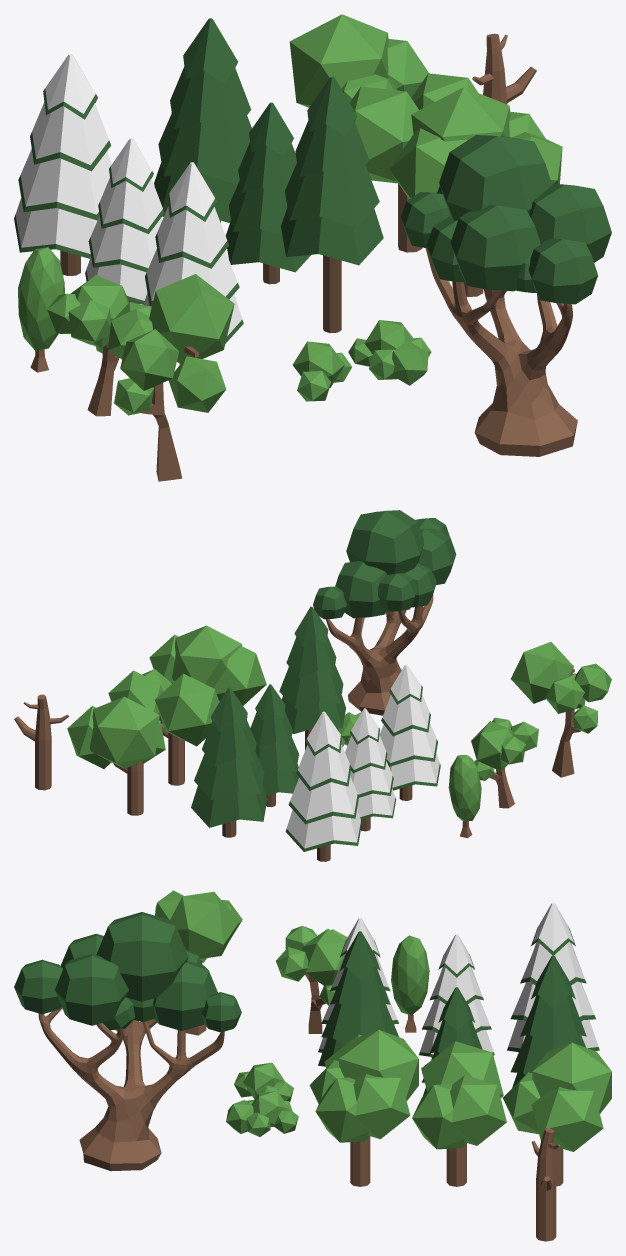
File: Arboles1 (2).fbx
3 renders of one model, top to bottom at view 1: azimuth 30°, elevation 25°; view 2: azimuth 150°, elevation 25°; view 3: azimuth 270°, elevation 25°, orthographic. The views are drawn at different scales.
Parts seen in each view (by area): view 1: tree2, Circle, Circle.010, tree2.001, Circle.011, Circle.008, Circle.003, Circle.007, Circle.009, Circle.001, Circle.006, Icosphere.007 (+13 smaller); view 2: tree2, Circle.011, Circle.010, Circle.007, Circle.006, Circle, Circle.003, Circle.001, tree2.001, Circle.009, Circle.008, Icosphere.007 (+10 smaller); view 3: tree2, tree2.001, Circle.003, Circle.006, Circle.007, Circle, Circle.011, Circle.010, Circle.009, Icosphere.007, Icosphere.009, Icosphere.011 (+9 smaller).
Part boxes in pixels (left/top/right/bottom): tree2: left=401, top=135, right=611, bottom=304; Circle: left=281, top=76, right=383, bottom=332; Circle.010: left=14, top=54, right=111, bottom=275; tree2.001: left=425, top=242, right=577, bottom=456; Circle.011: left=154, top=18, right=251, bottom=222; Circle.008: left=225, top=102, right=311, bottom=284; Circle.003: left=389, top=87, right=562, bottom=296; Circle.007: left=289, top=14, right=428, bottom=107; Circle.009: left=85, top=138, right=164, bottom=304; Circle.001: left=143, top=162, right=243, bottom=343; Circle.006: left=349, top=73, right=478, bottom=252; Icosphere.007: left=149, top=274, right=234, bottom=363; tree2: left=313, top=510, right=456, bottom=619; Circle.011: left=191, top=687, right=267, bottom=837; Circle.010: left=285, top=711, right=361, bottom=861; Circle.007: left=67, top=696, right=165, bottom=815; Circle.006: left=108, top=669, right=219, bottom=785; Circle: left=279, top=606, right=345, bottom=750; Circle.003: left=149, top=625, right=266, bottom=705; Circle.001: left=379, top=664, right=440, bottom=800; tree2.001: left=326, top=594, right=433, bottom=715; Circle.009: left=345, top=708, right=396, bottom=831; Circle.008: left=250, top=684, right=298, bottom=807; Icosphere.007: left=511, top=642, right=573, bottom=703; tree2: left=14, top=912, right=241, bottom=1032; tree2.001: left=38, top=1007, right=224, bottom=1171; Circle.003: left=309, top=1030, right=418, bottom=1186; Circle.006: left=412, top=1041, right=506, bottom=1186; Circle.007: left=503, top=1042, right=611, bottom=1186; Circle: left=318, top=931, right=398, bottom=1066; Circle.011: left=510, top=955, right=586, bottom=1087; Circle.010: left=507, top=902, right=599, bottom=1052; Circle.009: left=419, top=934, right=494, bottom=1057; Icosphere.007: left=170, top=891, right=239, bottom=958; Icosphere.009: left=391, top=935, right=429, bottom=1015; Icosphere.011: left=226, top=1091, right=298, bottom=1136.
Bounding box in the file's own units: 3891 × 1722 × 3922.
